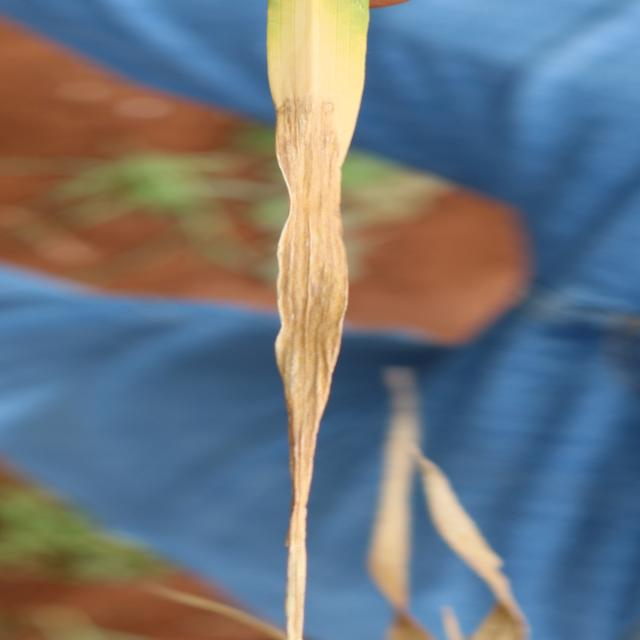Septoria: (265, 1, 371, 637)
